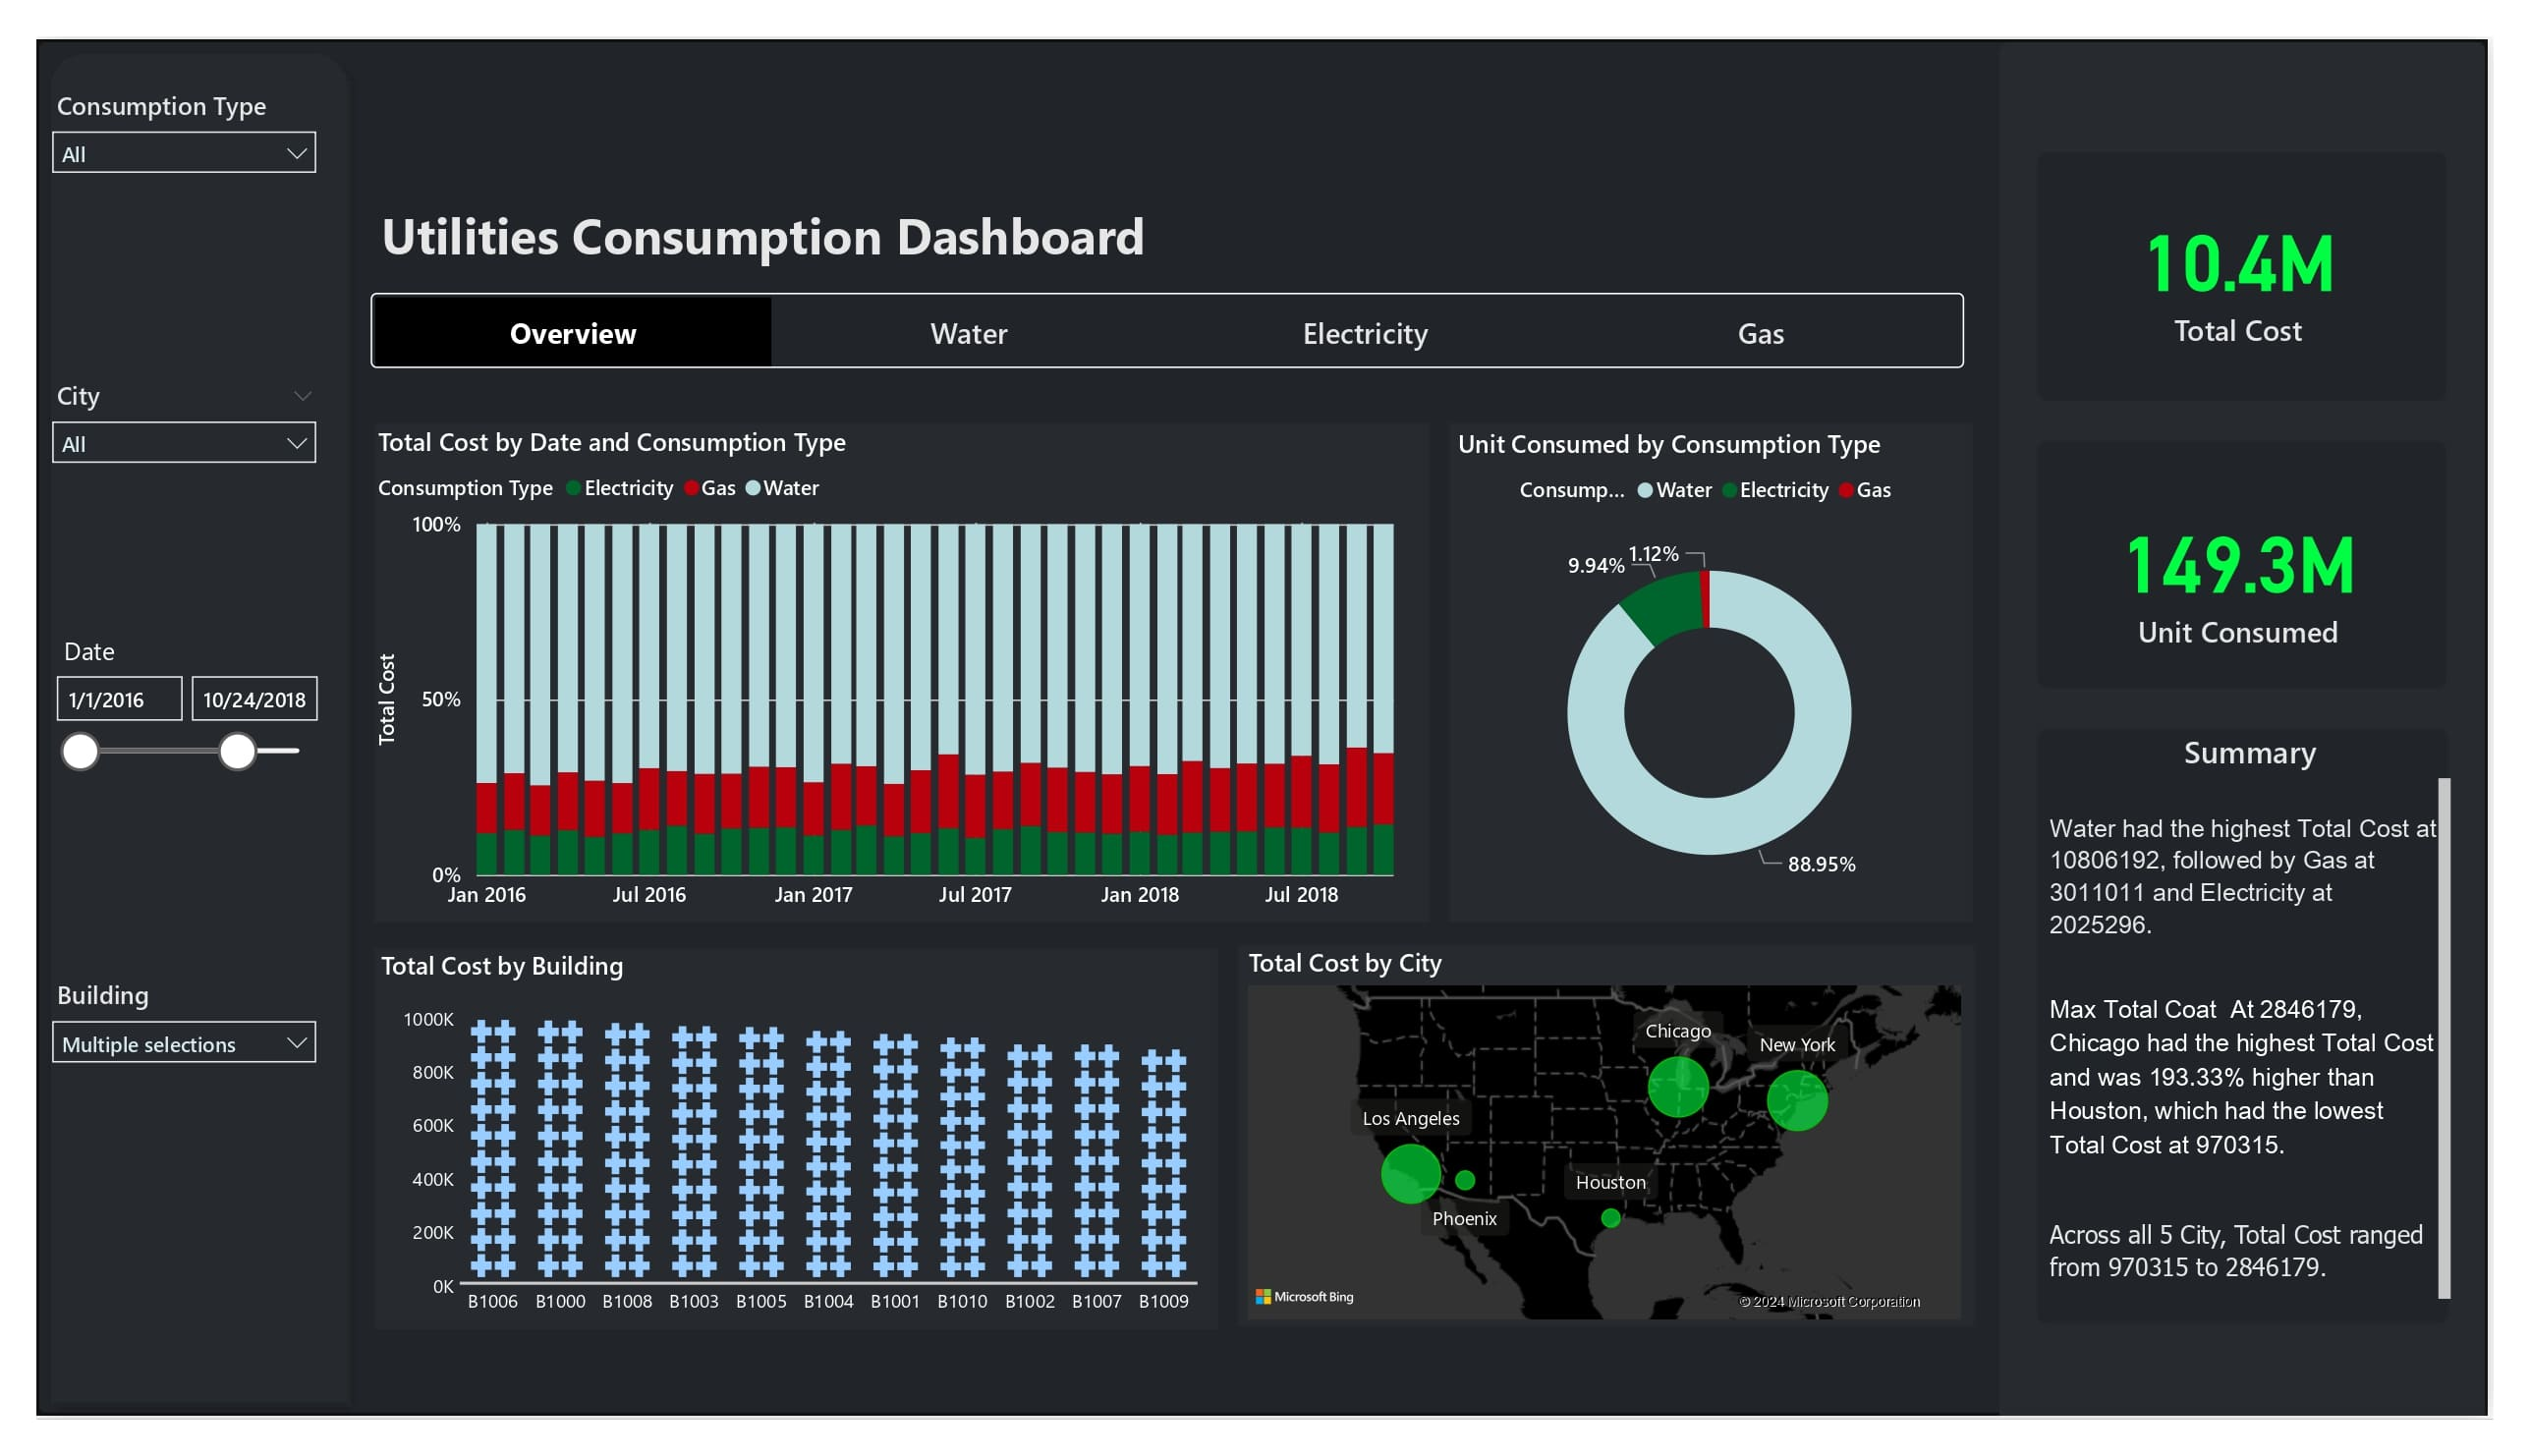

The page's visual inventory and layout, read from the dashboard file:
{"tool":"powerbi","page":{"name":"Overview","canvas":[1600,900],"ordinal":0},"visuals":[{"type":"textbox","box":[219.2,101.9,776.9,65.4],"z":0},{"type":"pageNavigator","box":[218.2,166.4,1038.2,49.1],"z":1000},{"type":"card","fields":{"Values":["Measures_Table.Total Cost"]},"box":[1306.6,81.7,255.4,145.9],"z":2000},{"type":"donutChart","fields":{"Category":["Energy Consumptions.Consumption Type"],"Y":["Measures_Table.Unit Consumed"]},"box":[921,253.7,337.9,322.8],"z":3000},{"type":"card","fields":{"Values":["Measures_Table.Unit Consumed"]},"box":[1306.7,282.2,255.6,135.6],"z":5000},{"type":"slicer","fields":{"Values":["Energy Consumptions.Consumption Type"]},"box":[0,28.8,192.3,73.1],"z":6000},{"type":"hundredPercentStackedColumnChart","fields":{"Category":["Energy Consumptions.Date"],"Y":["Measures_Table.Total Cost"],"Series":["Energy Consumptions.Consumption Type"]},"box":[218,251.8,689.3,324.6],"z":7000},{"type":"PBI_CV_73744D90_4DC9_4F18_8BA5_EE8FA5C98035","fields":{"Values":["Measures_Table.Total Cost"],"Category":["Energy Consumptions.Building"]},"box":[219.4,593.1,550,247.2],"z":8000},{"type":"slicer","fields":{"Values":["Building Master.City"]},"box":[0,217.3,192.3,73.1],"z":9000},{"type":"slicer","fields":{"Values":["Energy Consumptions.Building"]},"box":[0,607.7,192.3,73.1],"z":10000},{"type":"slicer","fields":{"Values":["Energy Consumptions.Date"]},"box":[0,405.8,192.3,86.5],"z":11000},{"type":"textbox","box":[12.7,384.1,152.9,32.5],"z":12000},{"type":"map","fields":{"Size":["Measures_Table.Total Cost"],"Category":["Building Master.City"]},"box":[784,592,474,248],"z":13000},{"type":"textbox","title":"Summary","box":[1306.7,450,271.2,391.3],"z":14000}]}

Visuals, with their boxes on the page's 1600x900 design canvas (x1, y1, x2, y2). These are canvas units, not pixel positions in the 2530x1456 screenshot, which may show the page scaled, cropped or inside an application window:
textbox: (left=219, top=102, right=996, bottom=167)
pageNavigator: (left=218, top=166, right=1256, bottom=216)
card - Measures_Table.Total Cost: (left=1307, top=82, right=1562, bottom=228)
donutChart - Energy Consumptions.Consumption Type x Measures_Table.Unit Consumed: (left=921, top=254, right=1259, bottom=576)
card - Measures_Table.Unit Consumed: (left=1307, top=282, right=1562, bottom=418)
slicer - Energy Consumptions.Consumption Type: (left=0, top=29, right=192, bottom=102)
hundredPercentStackedColumnChart - Energy Consumptions.Date x Measures_Table.Total Cost: (left=218, top=252, right=907, bottom=576)
PBI_CV_73744D90_4DC9_4F18_8BA5_EE8FA5C98035 - Measures_Table.Total Cost x Energy Consumptions.Building: (left=219, top=593, right=769, bottom=840)
slicer - Building Master.City: (left=0, top=217, right=192, bottom=290)
slicer - Energy Consumptions.Building: (left=0, top=608, right=192, bottom=681)
slicer - Energy Consumptions.Date: (left=0, top=406, right=192, bottom=492)
textbox: (left=13, top=384, right=166, bottom=417)
map - Measures_Table.Total Cost x Building Master.City: (left=784, top=592, right=1258, bottom=840)
"Summary" textbox: (left=1307, top=450, right=1578, bottom=841)
